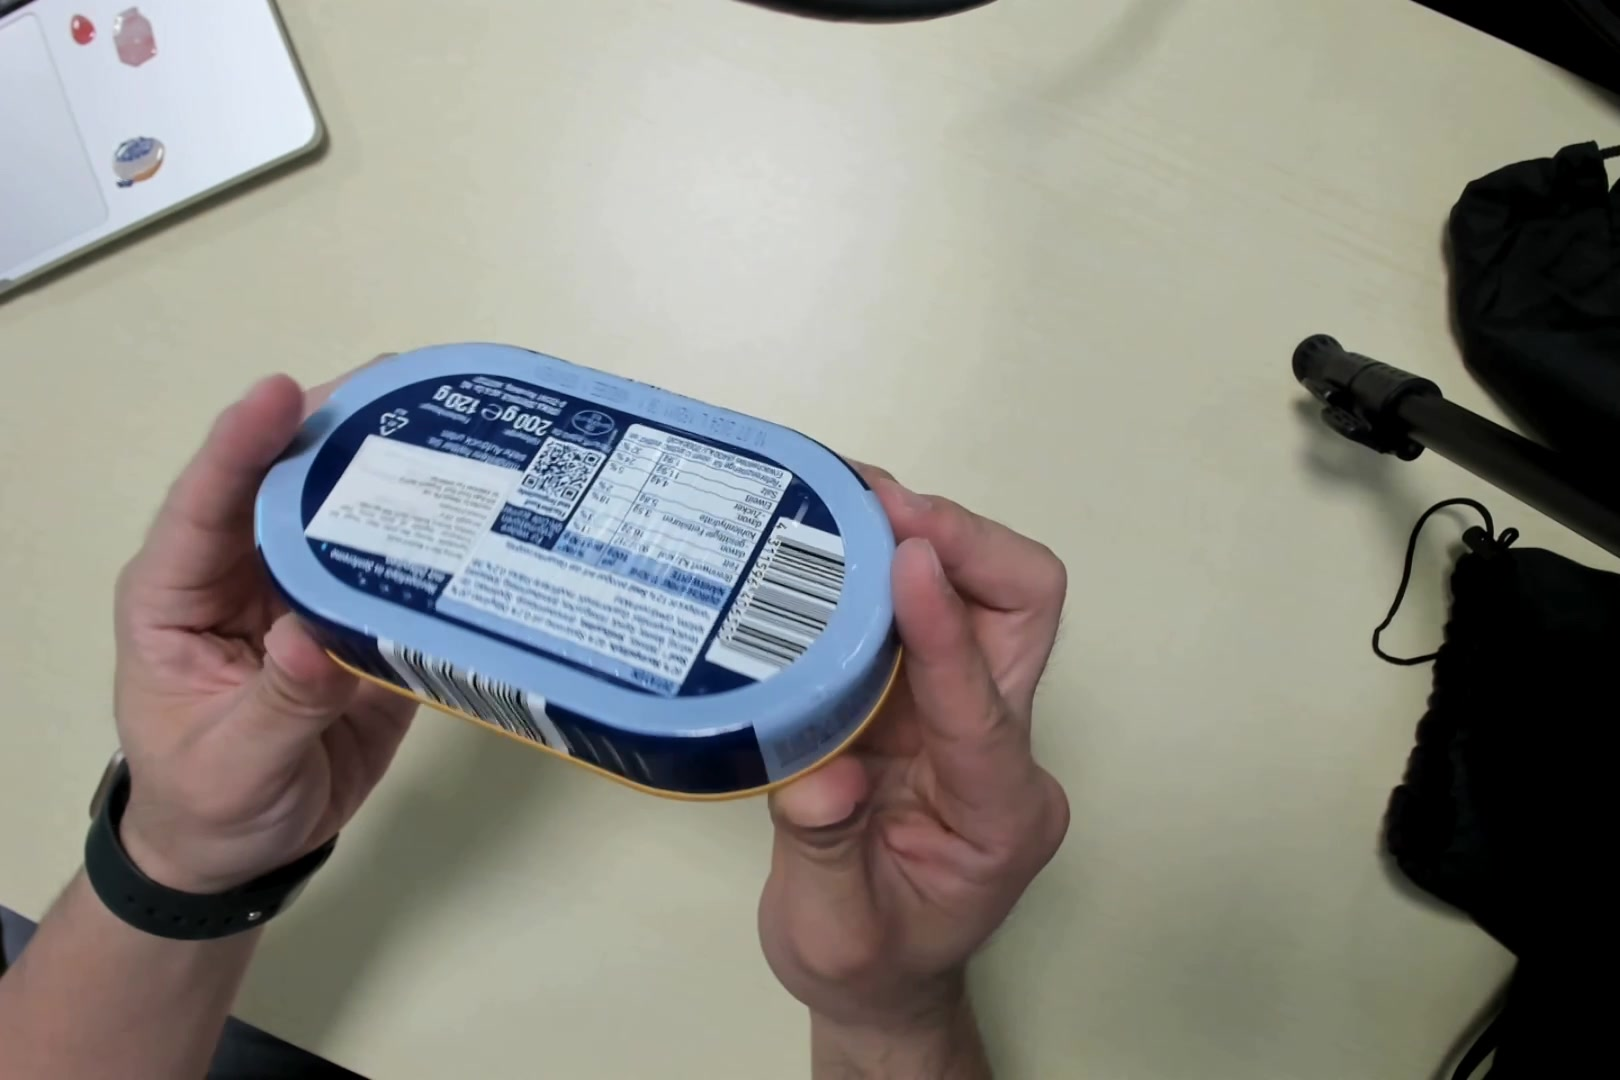OtherCannedSeafood_100-199g_Halal_NonHealthy: (259, 334, 908, 790)
